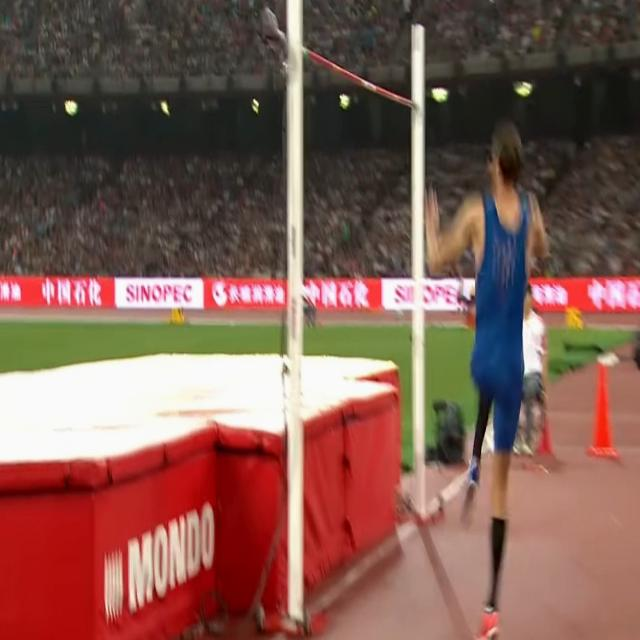jump: (426, 130, 548, 640)
